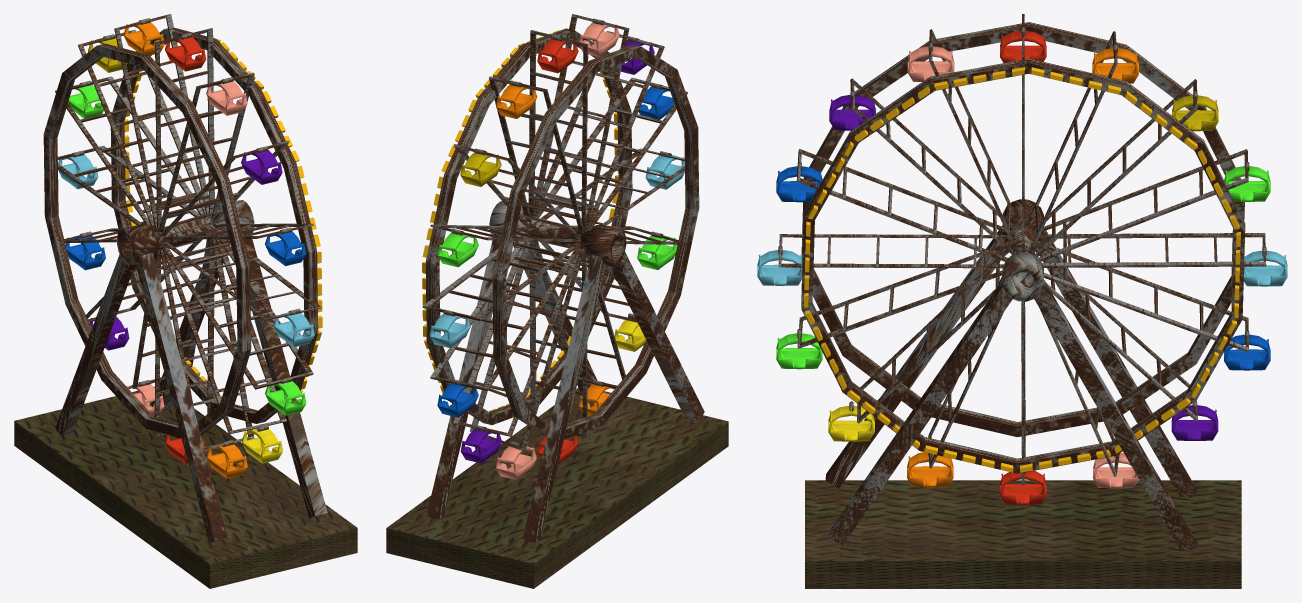
File: VueltaAlMundo.fbx
3 views of the same model, side by side, from view 1: azimuth 30°, elevation 25°; view 2: azimuth 150°, elevation 25°; view 3: azimuth 270°, elevation 25° (orthographic). The views are drawn at different scales.
Visible parts, largest first — view 1: Circle; view 2: Circle; view 3: Circle.
Part boxes in pixels (bbox=[...]): Circle: bbox=[14, 14, 357, 588]; Circle: bbox=[386, 14, 728, 588]; Circle: bbox=[757, 14, 1287, 588].
Size of the model in its own units: 397 by 1194 by 1105.
Materials: 8 (7 with a texture image).
